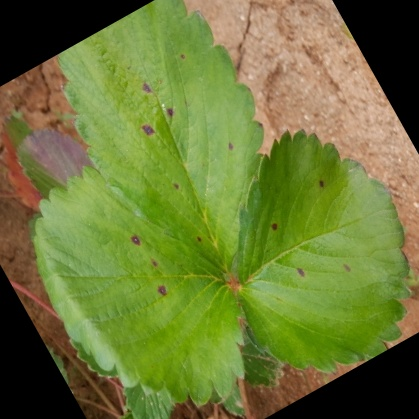Leaf_Spot: (23, 110, 231, 385), (128, 0, 304, 284), (180, 178, 376, 418)
